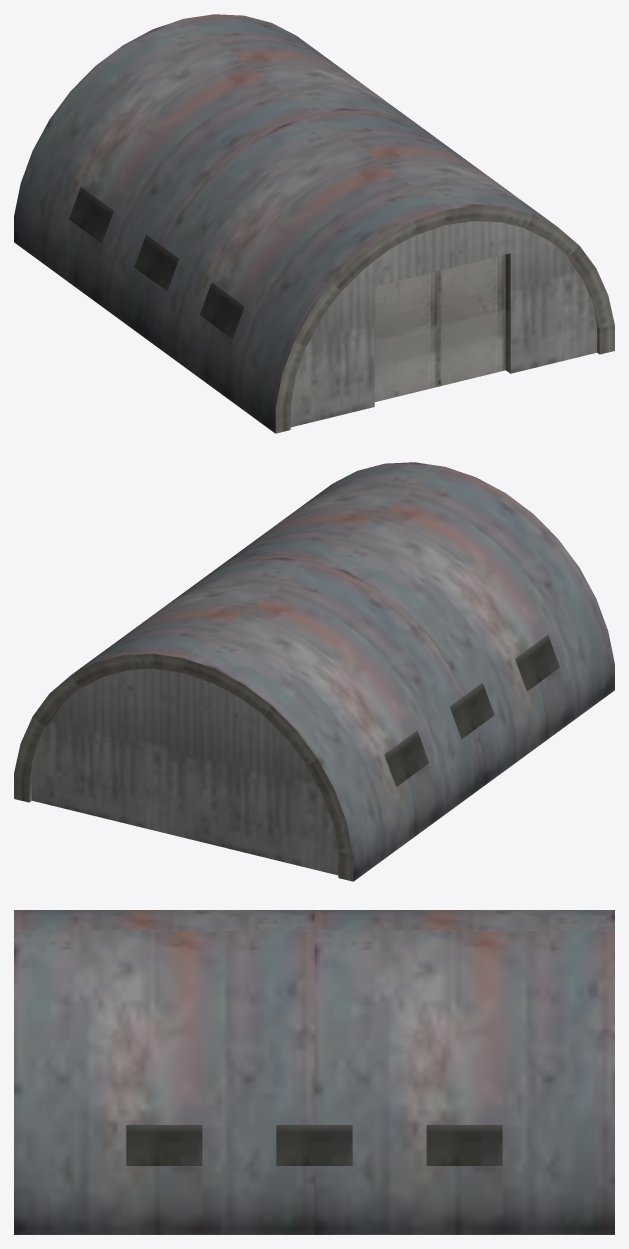
The model's file is rural-quonset.lod1.glb.
3 renders of one model, top to bottom at view 1: azimuth 30°, elevation 25°; view 2: azimuth 150°, elevation 25°; view 3: azimuth 270°, elevation 25°, orthographic. The views are drawn at different scales.
Parts seen in each view (by area): view 1: Rural_QuonsetHut_1_Rural_Industrial_Walls_FLR_1_0; view 2: Rural_QuonsetHut_1_Rural_Industrial_Walls_FLR_1_0; view 3: Rural_QuonsetHut_1_Rural_Industrial_Walls_FLR_1_0.
Boxes of the visible parts, <box> form: Rural_QuonsetHut_1_Rural_Industrial_Walls_FLR_1_0: <box>14,14,614,433</box>; Rural_QuonsetHut_1_Rural_Industrial_Walls_FLR_1_0: <box>14,462,614,881</box>; Rural_QuonsetHut_1_Rural_Industrial_Walls_FLR_1_0: <box>14,910,614,1234</box>.
Bounding box in the file's own units: 9.38 × 4.81 × 12.52.
1 material, 1 textured.
